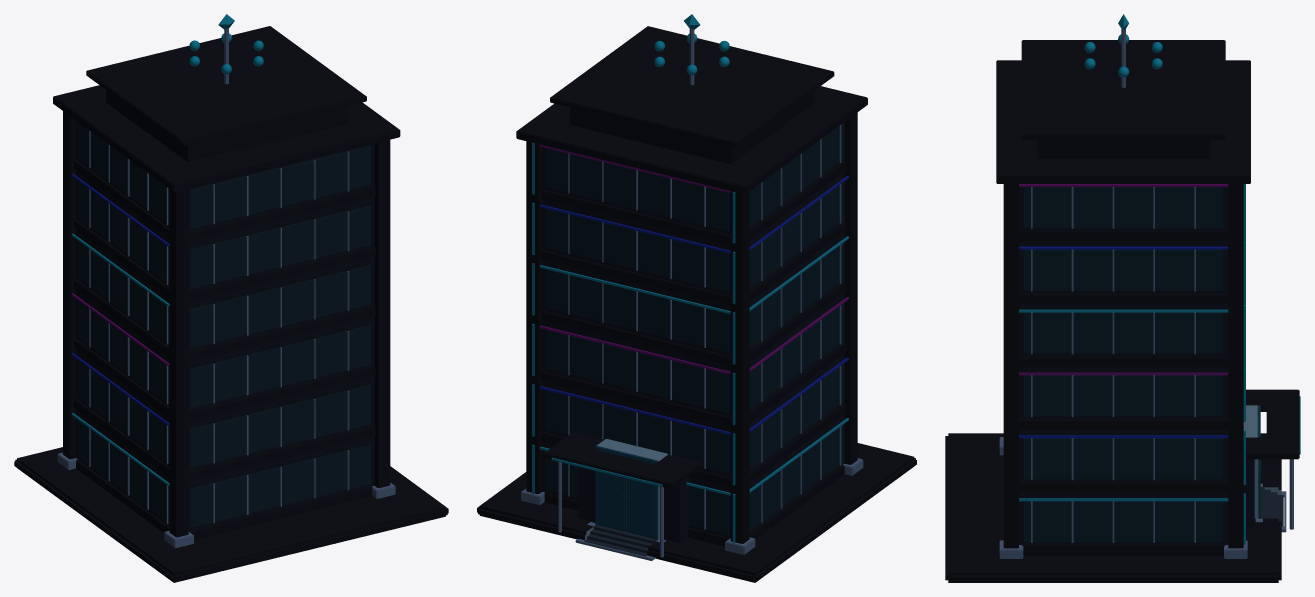
Rendered from neon-tower-visual.obj.
3 renders of one model, left to right at view 1: azimuth 30°, elevation 25°; view 2: azimuth 150°, elevation 25°; view 3: azimuth 270°, elevation 25°, orthographic. The views are drawn at different scales.
Parts seen in each view (by area): view 1: TowerStructure, Crown, Foundation_01, Floor4, Floor5, Floor3, Floor2, Floor6, Floor1; view 2: Crown, TowerStructure, Floor3, Floor4, Floor5, Floor6, Foundation_01, Floor2, Floor1, EntryLobby, HouseDoorLeaf_L_Panel, HouseDoorLeaf_R_Panel (+6 smaller); view 3: Crown, TowerStructure, Foundation_01, Floor2, Floor3, Floor6, Floor5, Floor4, Floor1, EntryLobby, HouseFX_FloorBand_1, HouseFX_FloorBand_2 (+4 smaller).
Part boxes in pixels (<box>): TowerStructure: <box>57,111,395,548</box>; Crown: <box>53,26,400,192</box>; Foundation_01: <box>14,447,448,582</box>; Floor4: <box>74,240,375,361</box>; Floor5: <box>74,180,375,301</box>; Floor3: <box>74,300,375,421</box>; Floor2: <box>74,359,375,481</box>; Floor6: <box>74,121,375,241</box>; Floor1: <box>76,419,372,539</box>; Crown: <box>516,26,867,194</box>; TowerStructure: <box>521,112,863,554</box>; Floor3: <box>541,303,846,426</box>; Floor4: <box>541,243,846,366</box>; Floor5: <box>541,182,846,305</box>; Floor6: <box>541,123,846,244</box>; Foundation_01: <box>477,443,916,582</box>; Floor2: <box>541,364,846,487</box>; Floor1: <box>544,424,844,546</box>; EntryLobby: <box>544,431,700,557</box>; HouseDoorLeaf_L_Panel: <box>598,471,624,529</box>; HouseDoorLeaf_R_Panel: <box>628,479,654,537</box>; Crown: <box>996,28,1250,183</box>; TowerStructure: <box>999,184,1247,558</box>; Foundation_01: <box>945,433,1281,582</box>; Floor2: <box>1019,438,1228,492</box>; Floor3: <box>1019,375,1228,429</box>; Floor6: <box>1019,187,1228,241</box>; Floor5: <box>1019,249,1228,303</box>; Floor4: <box>1019,312,1228,366</box>; Floor1: <box>1022,501,1224,555</box>; EntryLobby: <box>1243,389,1299,529</box>; HouseFX_FloorBand_1: <box>1019,498,1228,501</box>; HouseFX_FloorBand_2: <box>1019,435,1228,438</box>.
Size of the model in its own units: 36.3 by 59.42 by 38.36.
